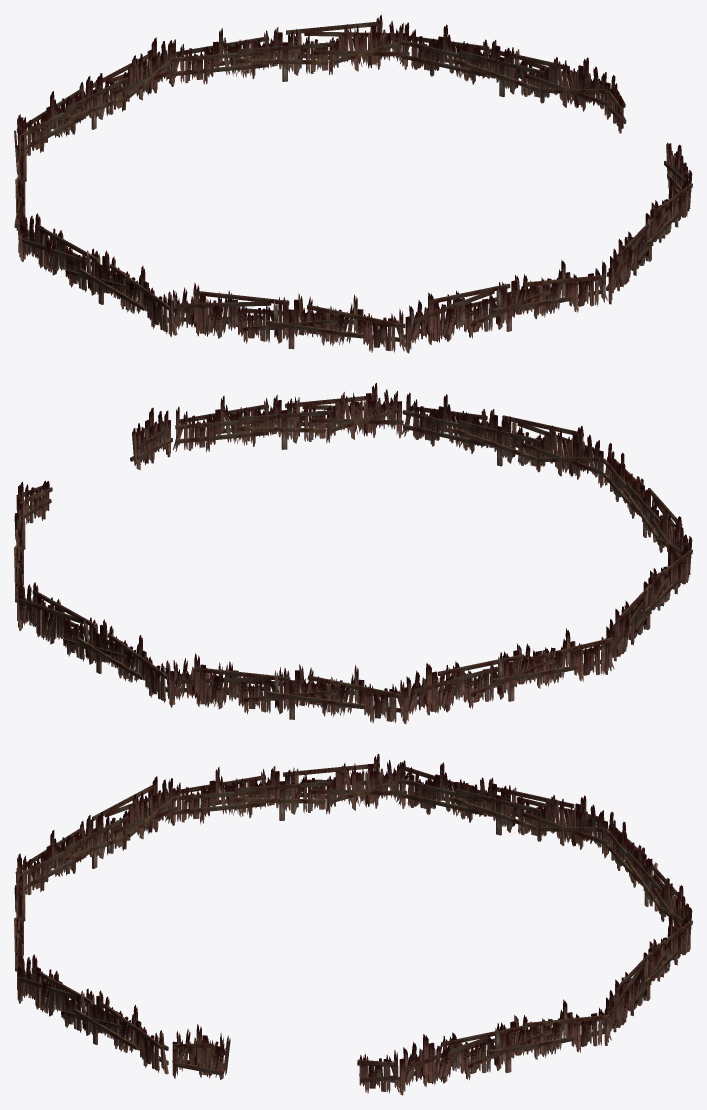
Rendered from P_BloodWoodChair01.fbx.
3 views of the same model, one above another, from view 1: azimuth 30°, elevation 25°; view 2: azimuth 150°, elevation 25°; view 3: azimuth 270°, elevation 25° (orthographic).
Parts seen in each view (by area): view 1: P_BloodWoodChair01; view 2: P_BloodWoodChair01; view 3: P_BloodWoodChair01.
Part boxes in pixels (left/top/right/bottom): P_BloodWoodChair01: left=14, top=14, right=692, bottom=353; P_BloodWoodChair01: left=14, top=383, right=692, bottom=724; P_BloodWoodChair01: left=14, top=754, right=692, bottom=1095.
Bounding box in the file's own units: 5433 × 518 × 5326.
